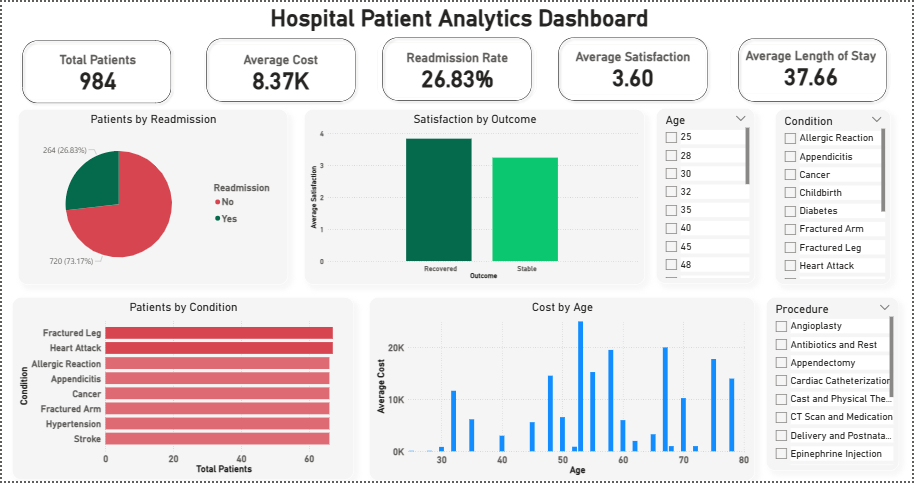

Layout of this report page (visuals, bound fields, positions):
{"tool":"powerbi","page":{"name":"Dashbaord","canvas":[1900,1000],"ordinal":0},"visuals":[{"type":"textbox","box":[10.4,0,1889.6,71],"z":0},{"type":"cardVisual","fields":{"Data":["hospital data analysis.Total Patients"]},"box":[19.9,71.8,356.8,151.5],"z":1000},{"type":"cardVisual","fields":{"Data":["hospital data analysis.Average Cost"]},"box":[405.1,71,352.9,150.3],"z":2000},{"type":"cardVisual","fields":{"Data":["hospital data analysis.Average Length of Stay"]},"box":[1503.3,71,369.6,137.8],"z":3000},{"type":"cardVisual","fields":{"Data":["hospital data analysis.Readmission Rate","select"]},"box":[766.3,66.8,367.5,150.3],"z":4000},{"type":"cardVisual","fields":{"Data":["hospital data analysis.Average Satisfaction"]},"box":[1146.3,71,340.3,139.9],"z":5000},{"type":"clusteredBarChart","title":"Patients by Condition","fields":{"Category":["hospital data analysis.Condition"],"Y":["hospital data analysis.Total Patients"]},"box":[20.9,615.9,714.1,382.1],"z":6000},{"type":"columnChart","title":"Cost by Age","fields":{"Category":["hospital data analysis.Age"],"Y":["hospital data analysis.Average Cost"]},"box":[766.3,615.9,805.9,384.2],"z":7000},{"type":"pieChart","title":"Patients by Readmission","fields":{"Category":["hospital data analysis.Readmission"],"Y":["hospital data analysis.Total Patients"]},"box":[33.4,223.4,563.7,367.5],"z":8000},{"type":"columnChart","title":"Satisfaction by Outcome","fields":{"Category":["hospital data analysis.Outcome"],"Y":["hospital data analysis.Average Satisfaction"]},"box":[630.5,223.4,712,367.5],"z":9000},{"type":"slicer","fields":{"Values":["hospital data analysis.Condition"]},"box":[1614,223.4,242.2,367.5],"z":10000},{"type":"slicer","fields":{"Values":["hospital data analysis.Procedure"]},"box":[1595.2,615.9,277.7,363.3],"z":11000},{"type":"slicer","fields":{"Values":["hospital data analysis.Age"]},"box":[1365.5,221.3,206.7,367.5],"z":12000},{"type":"shape","box":[1528.4,66.8,327.8,150.3],"z":13000},{"type":"shape","box":[1152.5,64.7,329.9,150.3],"z":14000},{"type":"shape","box":[785.1,64.7,329.9,150.3],"z":15000},{"type":"shape","box":[417.6,66.8,329.9,150.3],"z":16000},{"type":"shape","box":[33.9,71.8,328.9,149.5],"z":17000}]}

Visuals, with their boxes in screenshot pixels (x1, y1, x2, y2), scaled from the page's 1900x1000 canvas onto the 915x483 screenshot:
textbox: [left=5, top=0, right=914, bottom=34]
cardVisual - hospital data analysis.Total Patients: [left=10, top=35, right=181, bottom=108]
cardVisual - hospital data analysis.Average Cost: [left=195, top=34, right=365, bottom=107]
cardVisual - hospital data analysis.Average Length of Stay: [left=724, top=34, right=902, bottom=101]
cardVisual - hospital data analysis.Readmission Rate x select: [left=369, top=32, right=546, bottom=105]
cardVisual - hospital data analysis.Average Satisfaction: [left=552, top=34, right=716, bottom=102]
"Patients by Condition" clusteredBarChart: [left=10, top=297, right=354, bottom=482]
"Cost by Age" columnChart: [left=369, top=297, right=757, bottom=482]
"Patients by Readmission" pieChart: [left=16, top=108, right=288, bottom=285]
"Satisfaction by Outcome" columnChart: [left=304, top=108, right=647, bottom=285]
slicer - hospital data analysis.Condition: [left=777, top=108, right=894, bottom=285]
slicer - hospital data analysis.Procedure: [left=768, top=297, right=902, bottom=473]
slicer - hospital data analysis.Age: [left=658, top=107, right=757, bottom=284]
shape: [left=736, top=32, right=894, bottom=105]
shape: [left=555, top=31, right=714, bottom=104]
shape: [left=378, top=31, right=537, bottom=104]
shape: [left=201, top=32, right=360, bottom=105]
shape: [left=16, top=35, right=175, bottom=107]
